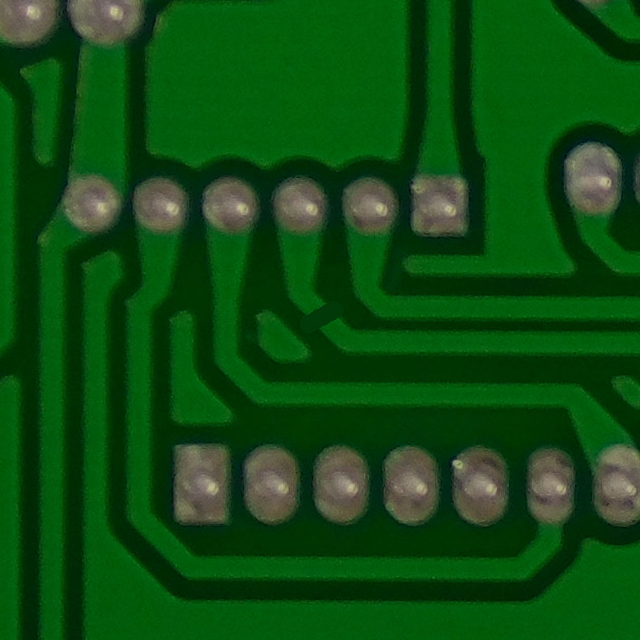open_circuit: (287, 296, 353, 344)
